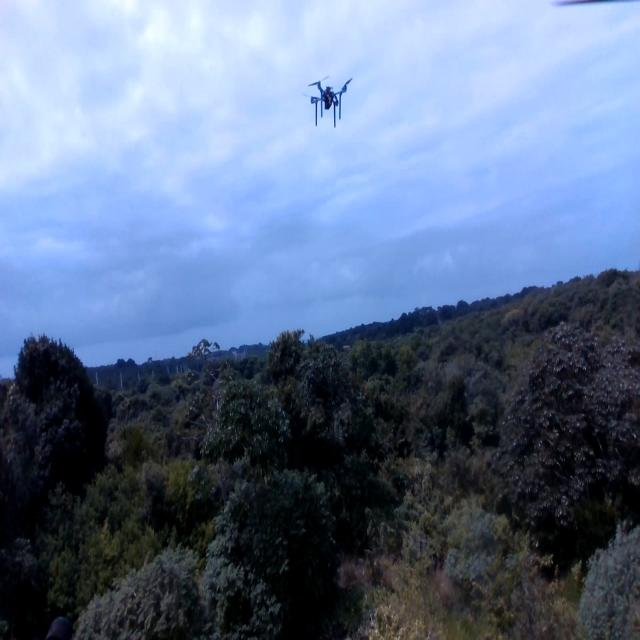-uav-: (304, 61, 355, 135)
